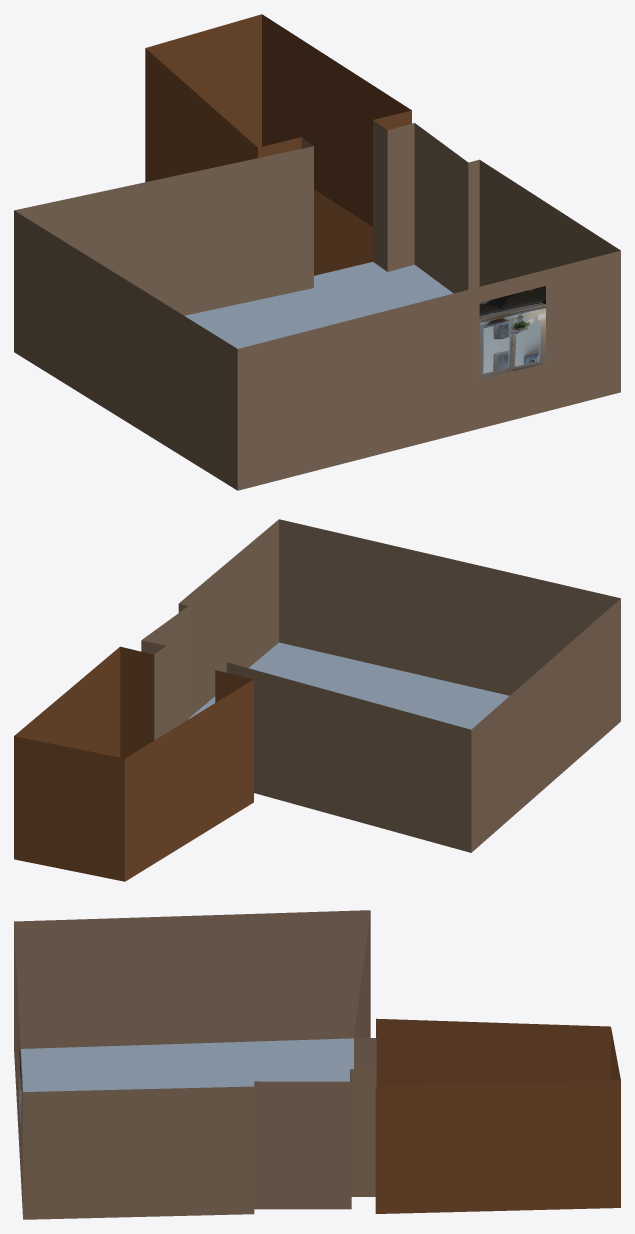
3 views of the same model, one above another, from view 1: azimuth 30°, elevation 25°; view 2: azimuth 150°, elevation 25°; view 3: azimuth 270°, elevation 25° (orthographic). The views are drawn at different scales.
Visible parts, largest first — view 1: wall_node_3, wall_node_2, wall_node_1, wall_node_10, wall_node_4, wall_node_12, wall_node_11, wall_node_6, patch_node_1, floor_node_12, wall_node_7, floor_node_7 (+7 smaller); view 2: wall_node_3, wall_node_1, wall_node_2, wall_node_12, wall_node_11, wall_node_4, floor_node_10, wall_node_10, wall_node_9, wall_node_6, wall_node_8, wall_node_13; view 3: wall_node_2, wall_node_10, wall_node_4, wall_node_12, wall_node_6, floor_node_12, wall_node_8, floor_node_7, wall_node_3, wall_node_1, floor_node_10, wall_node_14.
Part boxes in pixels (<box>): wall_node_3: <box>237,250,620,490</box>; wall_node_2: <box>14,210,237,490</box>; wall_node_1: <box>14,146,313,315</box>; wall_node_10: <box>262,14,411,226</box>; wall_node_4: <box>479,160,620,286</box>; wall_node_12: <box>145,48,257,182</box>; wall_node_11: <box>145,14,261,147</box>; wall_node_6: <box>414,123,468,293</box>; patch_node_1: <box>479,286,545,379</box>; floor_node_12: <box>184,288,313,348</box>; wall_node_7: <box>387,123,414,271</box>; floor_node_7: <box>297,288,427,333</box>; wall_node_3: <box>279,519,620,695</box>; wall_node_1: <box>226,662,471,852</box>; wall_node_2: <box>471,598,620,852</box>; wall_node_12: <box>125,679,253,881</box>; wall_node_11: <box>14,736,124,881</box>; wall_node_4: <box>179,519,278,717</box>; floor_node_10: <box>252,642,509,724</box>; wall_node_10: <box>14,647,120,757</box>; wall_node_9: <box>120,646,154,758</box>; wall_node_6: <box>142,606,188,732</box>; wall_node_8: <box>154,646,166,740</box>; wall_node_13: <box>215,670,253,702</box>; wall_node_2: <box>14,910,370,1048</box>; wall_node_10: <box>375,1080,620,1213</box>; wall_node_4: <box>23,1086,254,1219</box>; wall_node_12: <box>376,1018,610,1086</box>; wall_node_6: <box>254,1081,351,1209</box>; floor_node_12: <box>20,1038,353,1089</box>; wall_node_8: <box>350,1069,375,1196</box>; floor_node_7: <box>21,1051,130,1090</box>; wall_node_3: <box>14,925,22,1214</box>; wall_node_1: <box>354,911,370,1037</box>; floor_node_10: <box>21,1054,76,1091</box>; wall_node_14: <box>354,1038,376,1086</box>.
Size of the model in its own units: 611 by 862 by 200.
27 materials, 1 textured.
